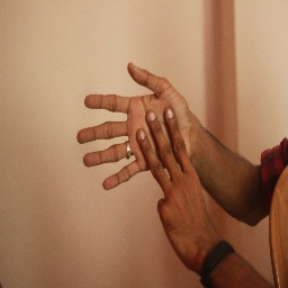M: (76, 61, 205, 203)
